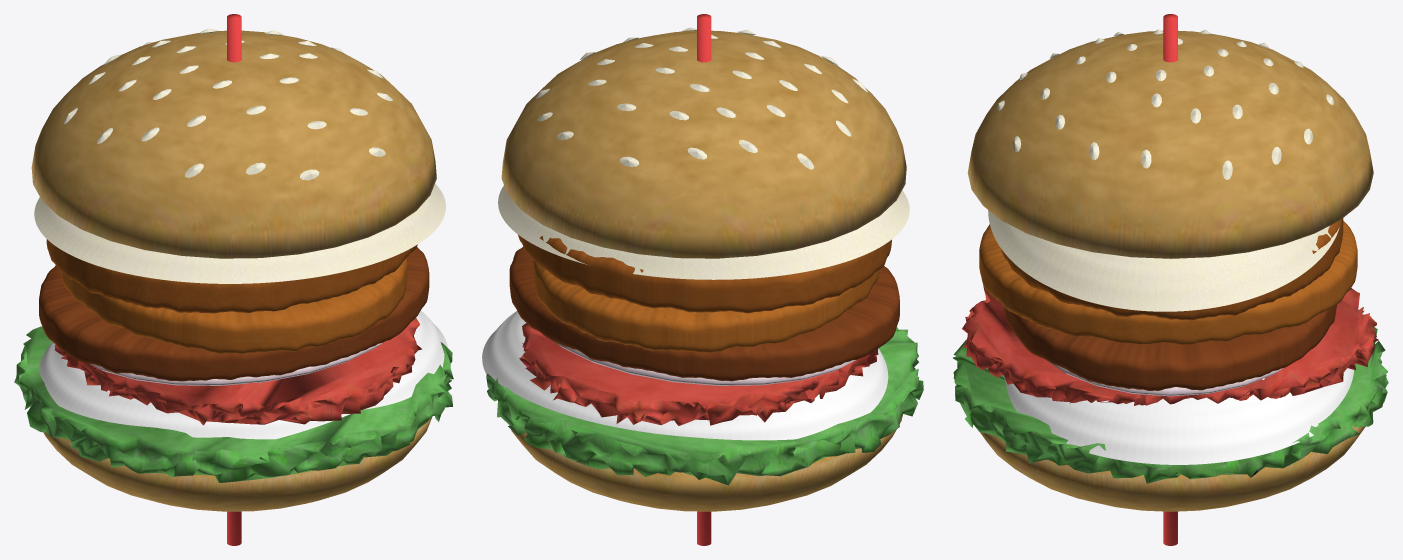
Rendered from hamburguesa_maracucha.glb.
3 renders of one model, left to right at view 1: azimuth 30°, elevation 25°; view 2: azimuth 150°, elevation 25°; view 3: azimuth 270°, elevation 25°, orthographic.
Visible parts, largest first — view 1: BunTop, Lettuce, GrilledChicken, Tomato, FriedChicken1, Cheese2, BunBottom, FriedChicken2, Cheese1, SesameAll, Onion, Skewer; view 2: BunTop, Lettuce, GrilledChicken, Tomato, FriedChicken1, FriedChicken2, Cheese1, BunBottom, Cheese2, SesameAll, Onion, Skewer; view 3: BunTop, Cheese1, Cheese2, Lettuce, Tomato, GrilledChicken, FriedChicken1, BunBottom, FriedChicken2, SesameAll, Skewer, Onion.
Part boxes in pixels (bbox=[...]): BunTop: bbox=[31, 30, 436, 258]; Lettuce: bbox=[14, 326, 453, 482]; GrilledChicken: bbox=[39, 247, 429, 381]; Tomato: bbox=[53, 318, 421, 425]; FriedChicken1: bbox=[60, 258, 407, 354]; Cheese2: bbox=[34, 183, 445, 283]; BunBottom: bbox=[43, 416, 432, 511]; FriedChicken2: bbox=[46, 239, 417, 313]; Cheese1: bbox=[39, 310, 447, 439]; SesameAll: bbox=[63, 28, 392, 180]; Onion: bbox=[90, 342, 382, 385]; Skewer: bbox=[227, 14, 241, 545]; BunTop: bbox=[501, 30, 906, 258]; Lettuce: bbox=[486, 327, 923, 485]; GrilledChicken: bbox=[509, 246, 899, 381]; Tomato: bbox=[519, 323, 878, 425]; FriedChicken1: bbox=[533, 260, 879, 352]; FriedChicken2: bbox=[518, 235, 891, 313]; Cheese1: bbox=[482, 311, 888, 440]; BunBottom: bbox=[511, 414, 902, 511]; Cheese2: bbox=[498, 185, 909, 279]; SesameAll: bbox=[535, 27, 867, 169]; Onion: bbox=[555, 342, 855, 385]; Skewer: bbox=[697, 14, 711, 545]; BunTop: bbox=[967, 30, 1373, 258]; Cheese1: bbox=[1003, 368, 1353, 464]; Cheese2: bbox=[988, 210, 1339, 311]; Lettuce: bbox=[953, 327, 1388, 483]; Tomato: bbox=[962, 286, 1378, 405]; GrilledChicken: bbox=[1003, 305, 1336, 390]; FriedChicken1: bbox=[979, 221, 1357, 344]; BunBottom: bbox=[980, 426, 1365, 511]; FriedChicken2: bbox=[1000, 218, 1343, 320]; SesameAll: bbox=[997, 29, 1334, 179]; Skewer: bbox=[1163, 14, 1177, 545]; Onion: bbox=[1046, 360, 1282, 396].
Bounding box in the file's own units: 2.31 × 3 × 2.26.
12 materials, 9 textured.
